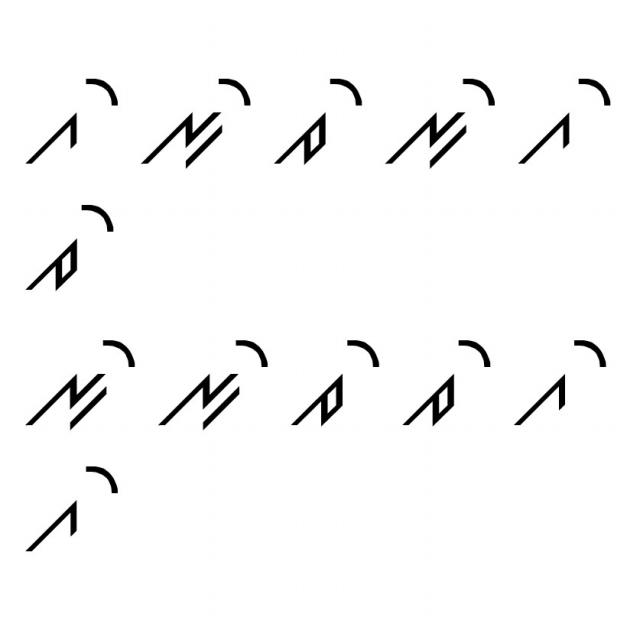gay: (15, 59, 121, 183), (9, 456, 122, 562), (514, 321, 615, 438), (512, 69, 614, 170)
ngay: (139, 70, 261, 176), (22, 329, 144, 434), (384, 69, 500, 178), (157, 325, 273, 434)
tay: (290, 323, 383, 442), (393, 328, 493, 436), (12, 202, 120, 300), (274, 70, 368, 176)
